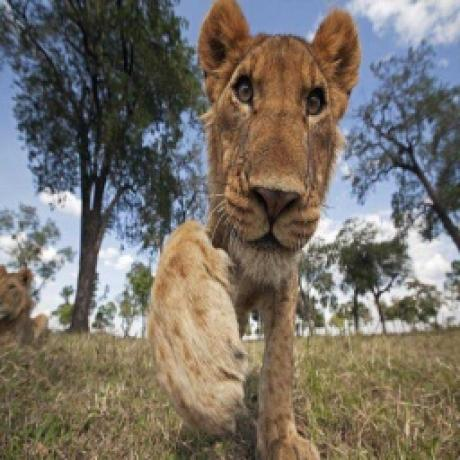Lion: (147, 0, 363, 460), (0, 253, 50, 343)
